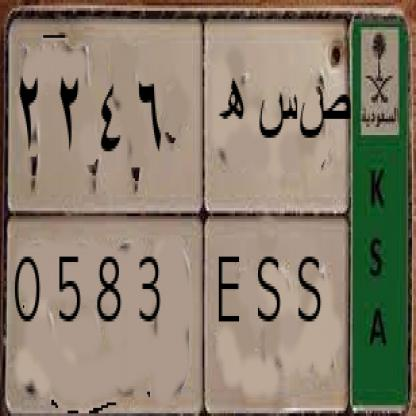english: (7, 206, 351, 402)
